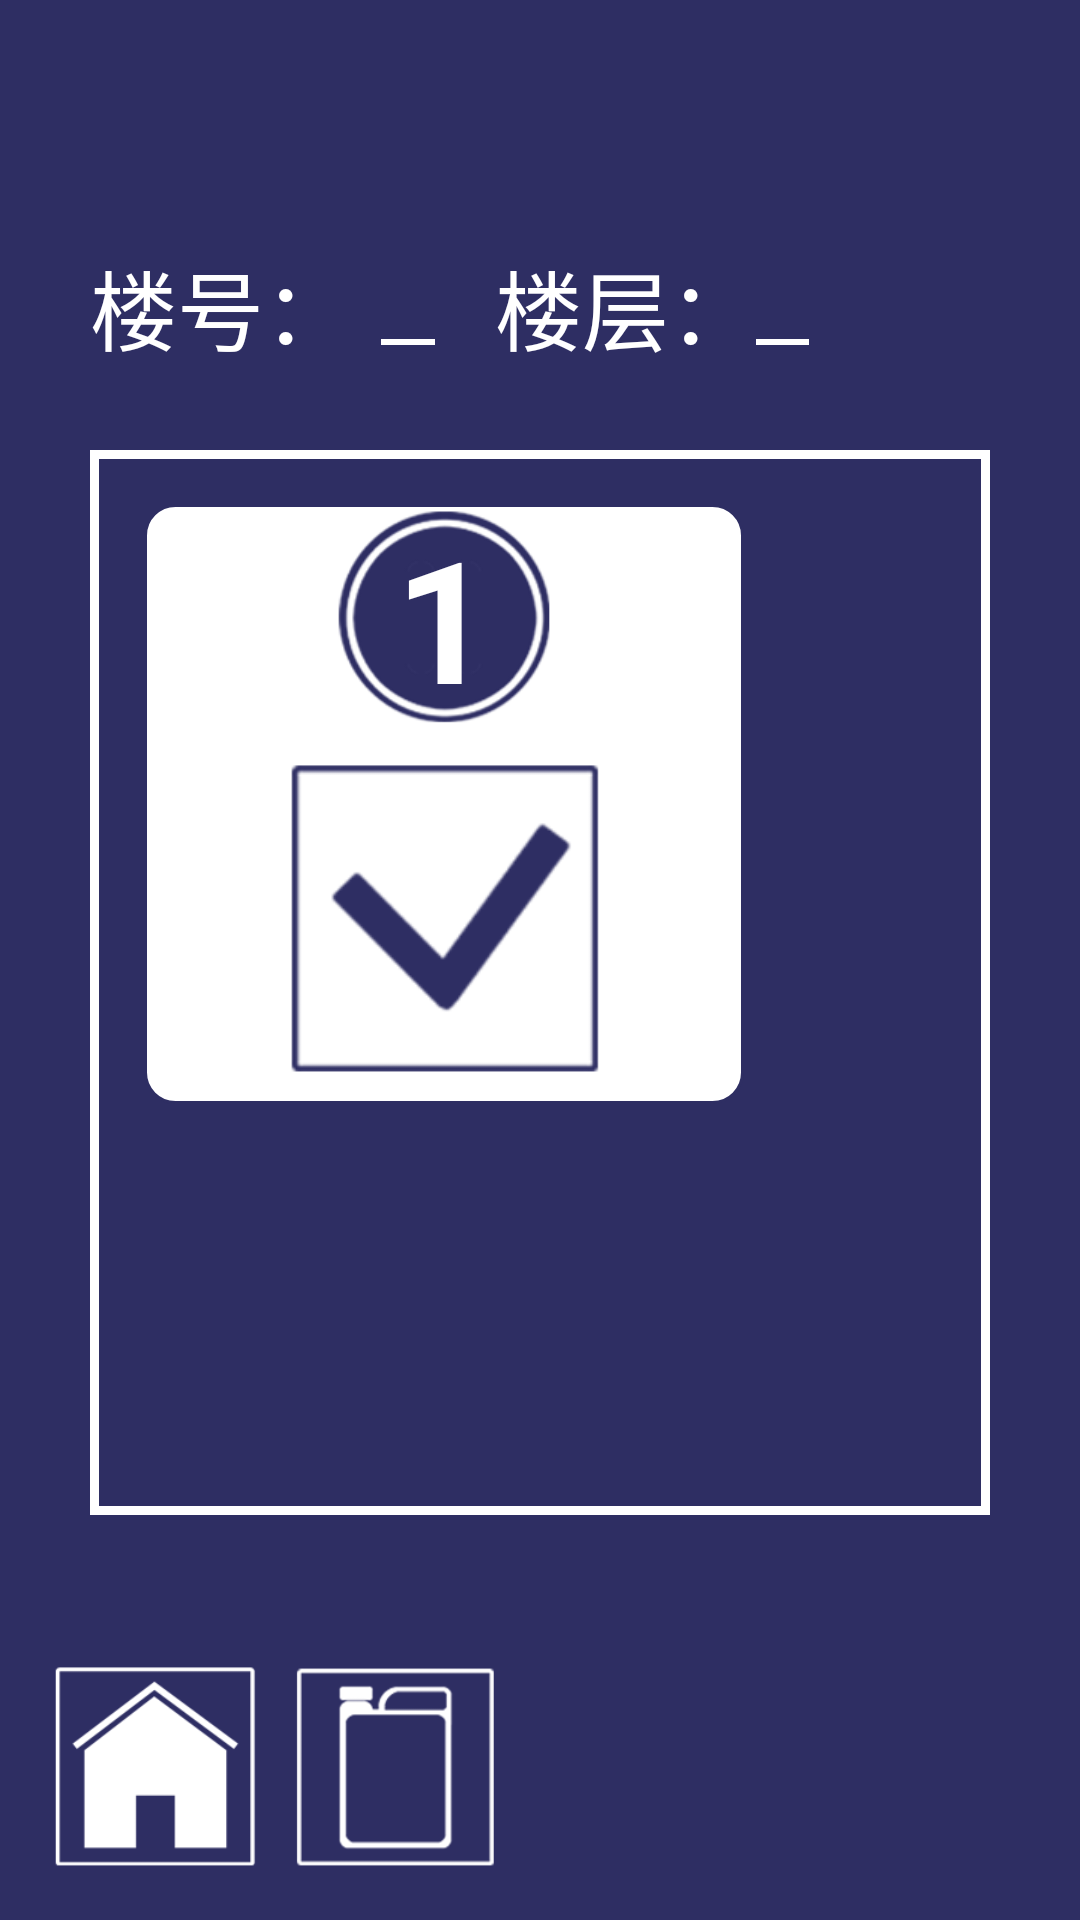

Point at icon controls on the screen. Image size 1080px x 1920px, points as [x,y].
grid num: [444,617]
home: [155,1766]
reagent: [395,1767]
